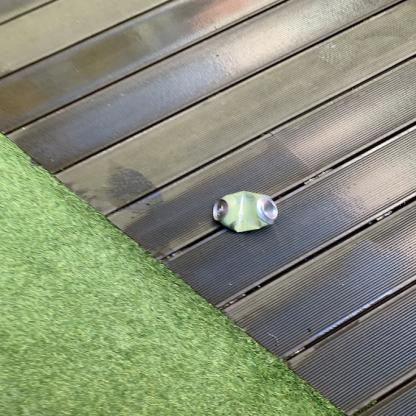trash: (210, 189, 282, 234)
